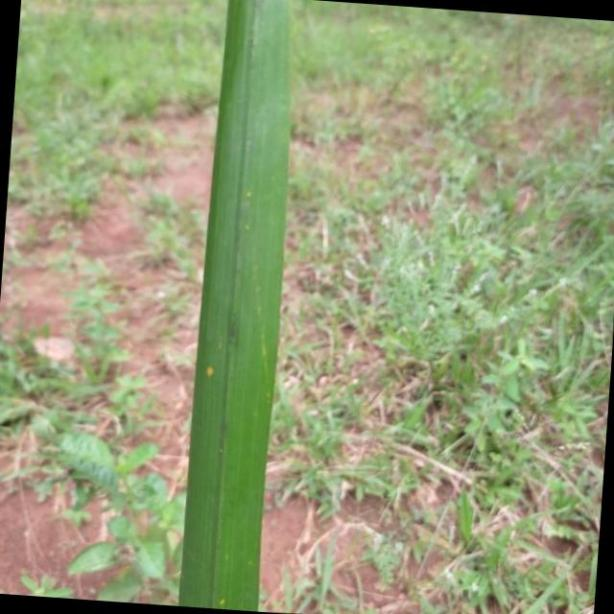Kalium: (178, 0, 294, 614)
